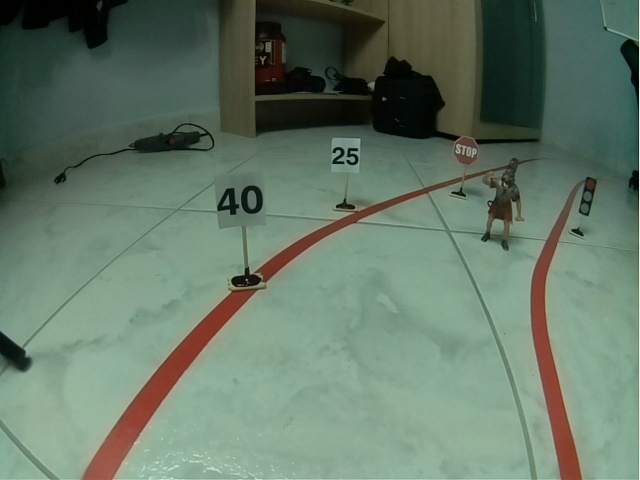Person: (482, 157, 525, 252)
Red Traffic Light: (578, 176, 597, 217)
Speed Limit 25: (331, 138, 360, 174)
Speed Limit 40: (215, 174, 266, 228)
Stop: (452, 135, 479, 167)
